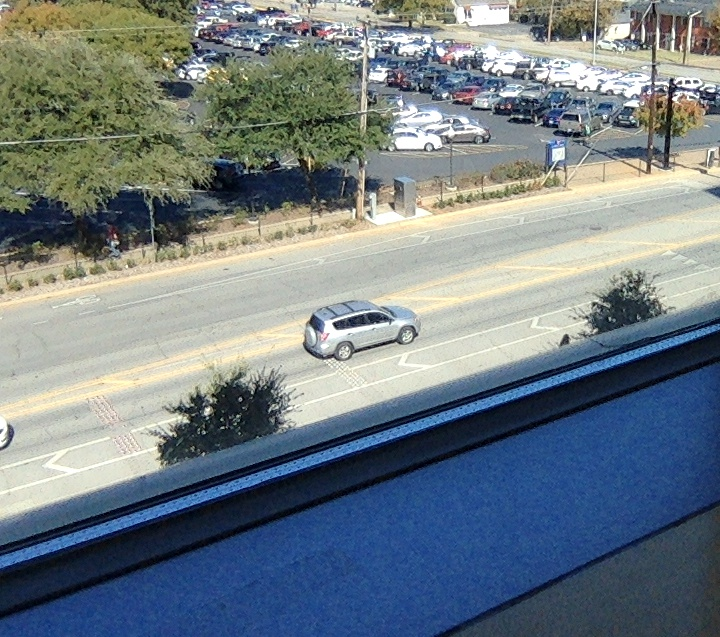car: (300, 300, 420, 363)
